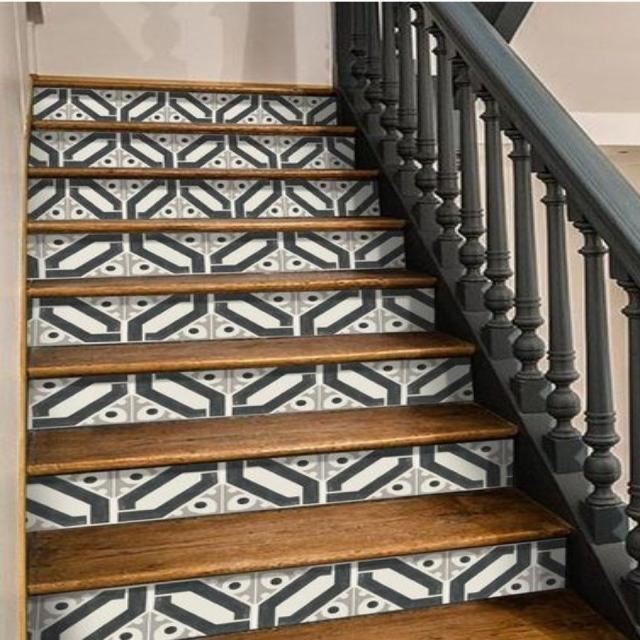Staircase: (25, 73, 487, 640)
